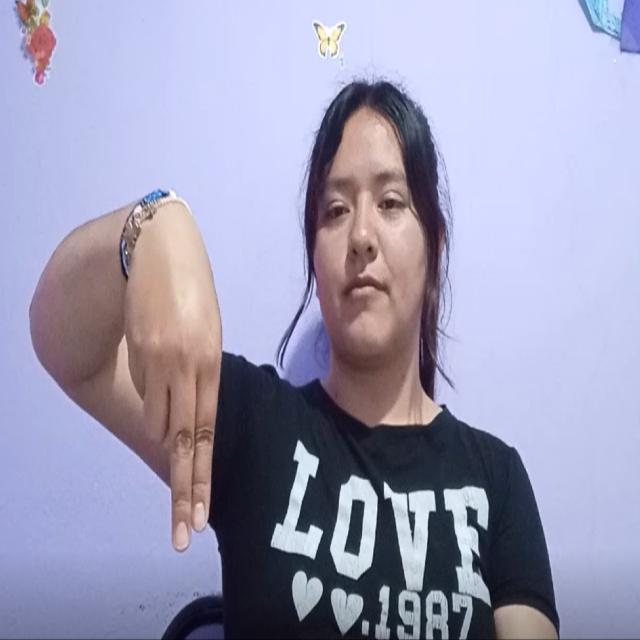N: (98, 170, 240, 564)
